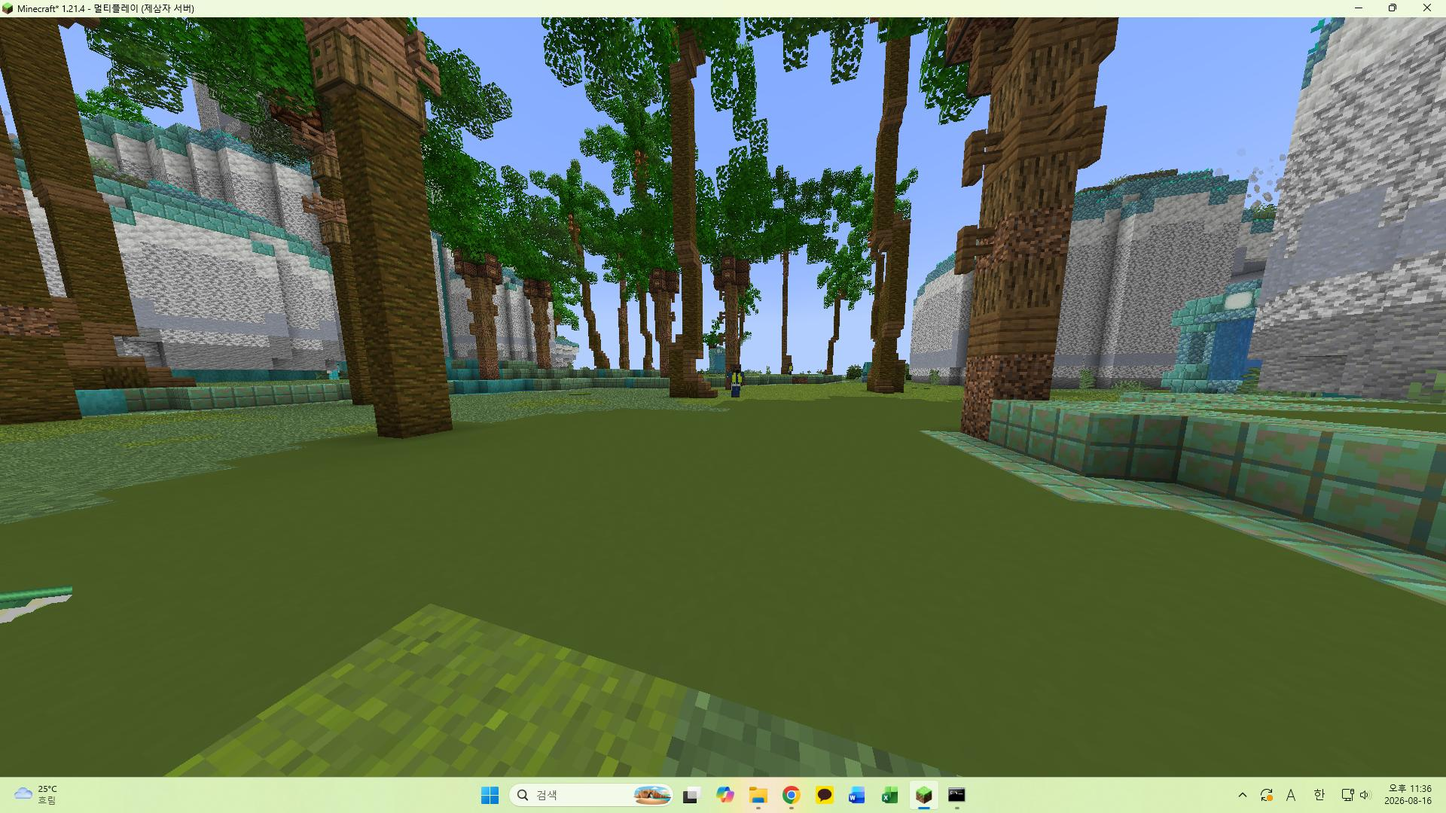Guardian: (728, 364, 746, 397)
